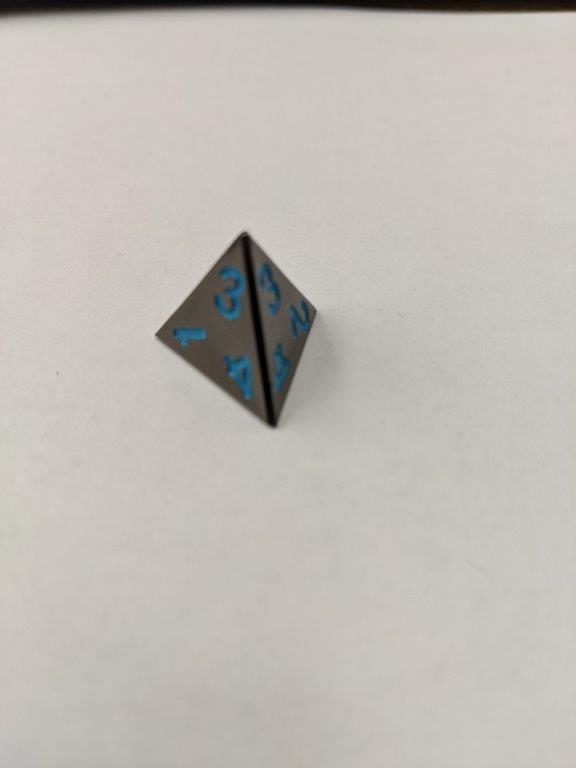d4-3: (152, 226, 323, 434)
